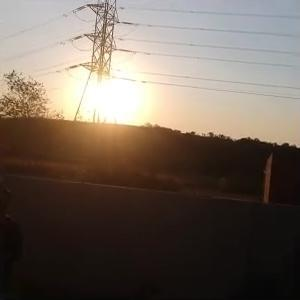follow: (0, 180, 30, 297)
